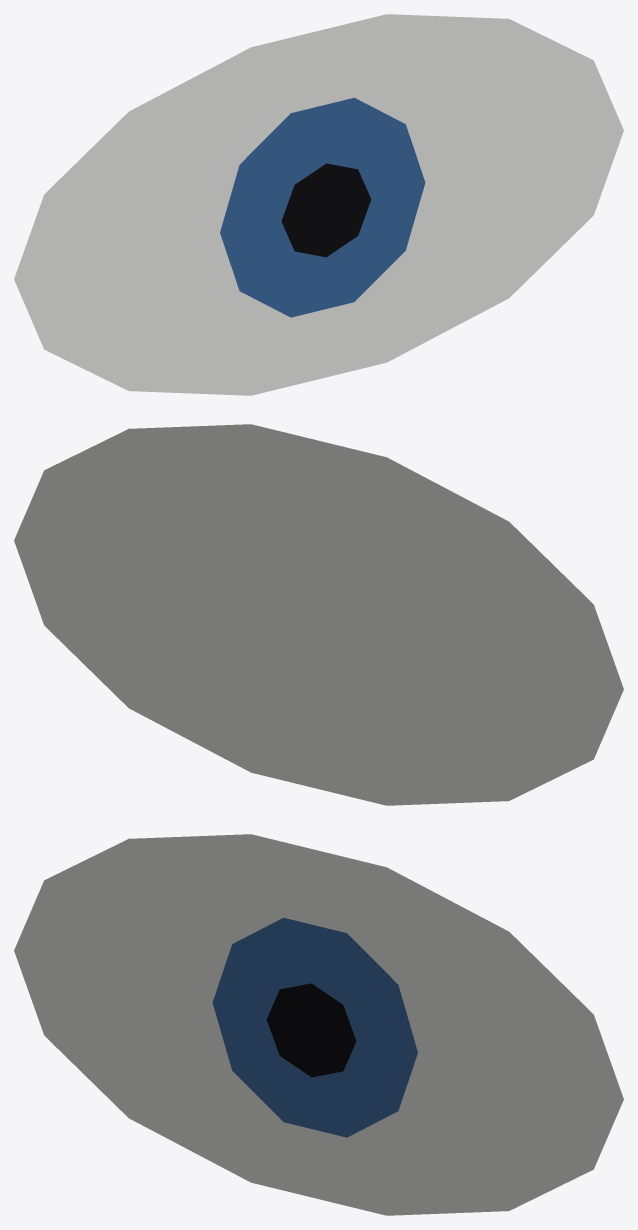
Rendered from eye.glb.
3 renders of one model, top to bottom at view 1: azimuth 30°, elevation 25°; view 2: azimuth 150°, elevation 25°; view 3: azimuth 330°, elevation 25°, orthographic.
Visible parts, largest first — view 1: eye; view 2: eye; view 3: eye.
Part boxes in pixels (bbox=[...]): eye: bbox=[14, 14, 623, 395]; eye: bbox=[14, 424, 623, 805]; eye: bbox=[14, 834, 623, 1215].
Size of the model in its own units: 0.95 by 0.5186 by 0.02.
1 material, 1 textured.
